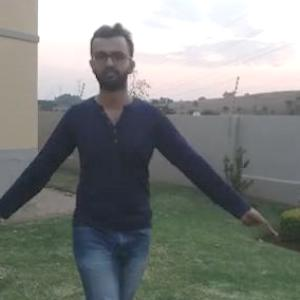land: (35, 85, 171, 278)
